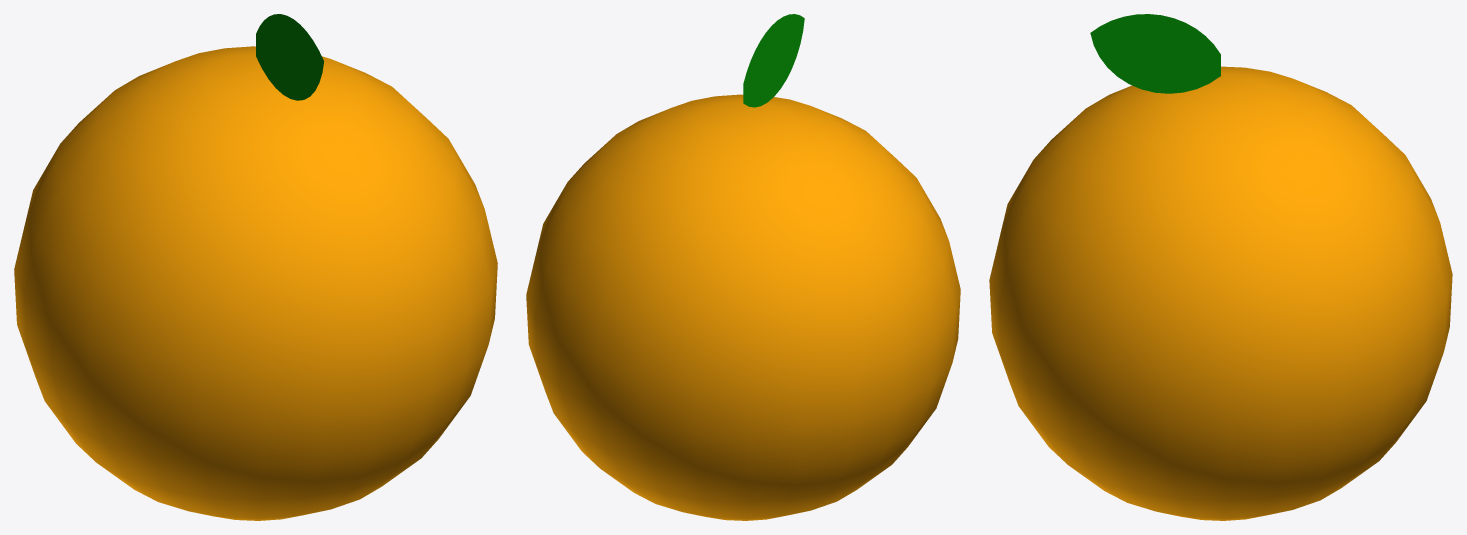
File: orange.dae
3 views of the same model, side by side, from view 1: azimuth 30°, elevation 25°; view 2: azimuth 150°, elevation 25°; view 3: azimuth 270°, elevation 25° (orthographic). The views are drawn at different scales.
Parts seen in each view (by area): view 1: SketchUp (×2); view 2: SketchUp (×2); view 3: SketchUp (×2).
Boxes of the visible parts, x1,y1,x2,y2 form: SketchUp (×2): (14, 14, 497, 520); SketchUp (×2): (526, 14, 960, 520); SketchUp (×2): (989, 14, 1452, 520).
Bounding box in the file's own units: 191 × 191 × 219.
